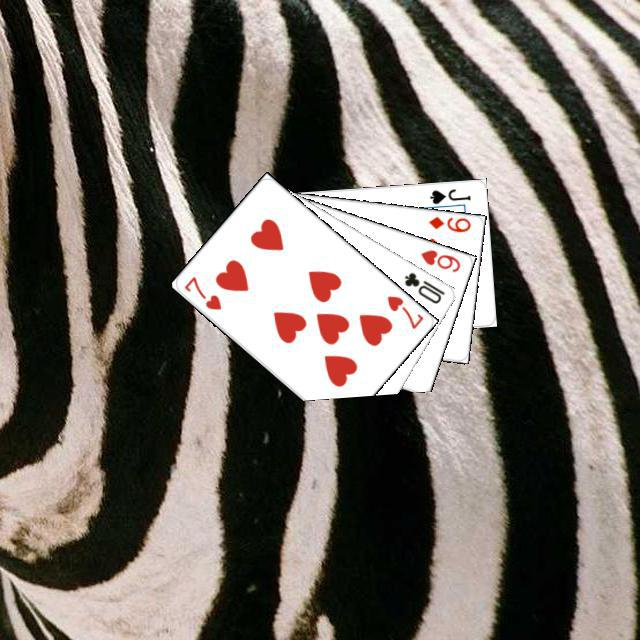10c: (399, 267, 446, 305)
6h: (416, 245, 462, 274)
7h: (179, 271, 223, 312), (382, 291, 425, 331)
9d: (424, 212, 472, 234)
Js: (425, 184, 472, 206)
